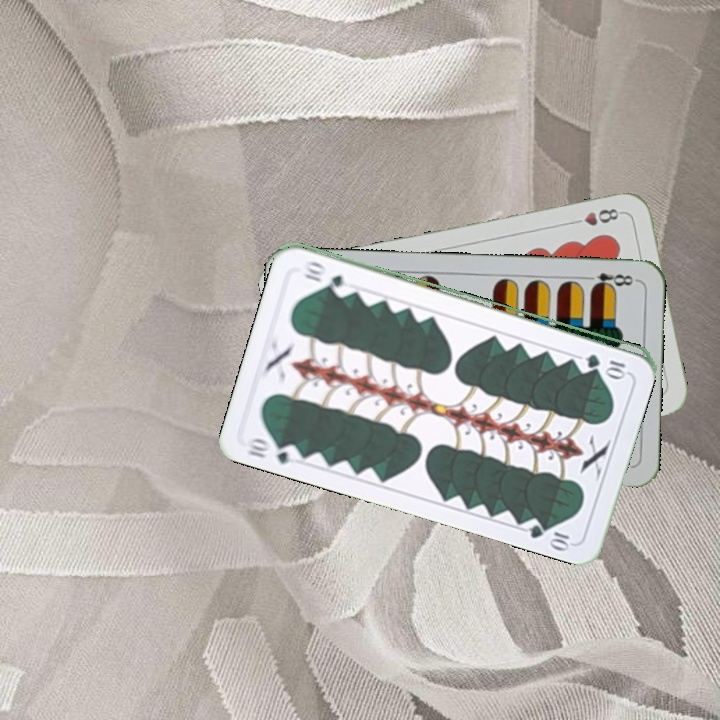E8: (580, 269, 639, 292)
G10: (242, 433, 303, 467), (581, 350, 628, 377)
H8: (567, 204, 626, 229)
